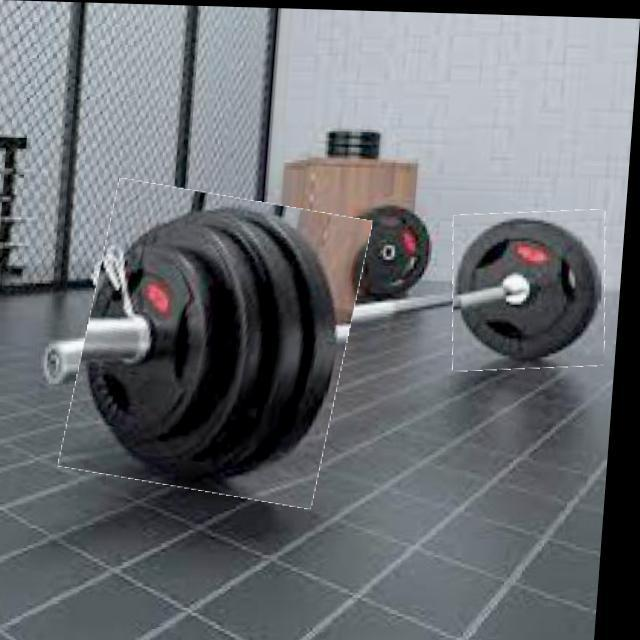barbell: (74, 186, 369, 501), (451, 205, 616, 370)
